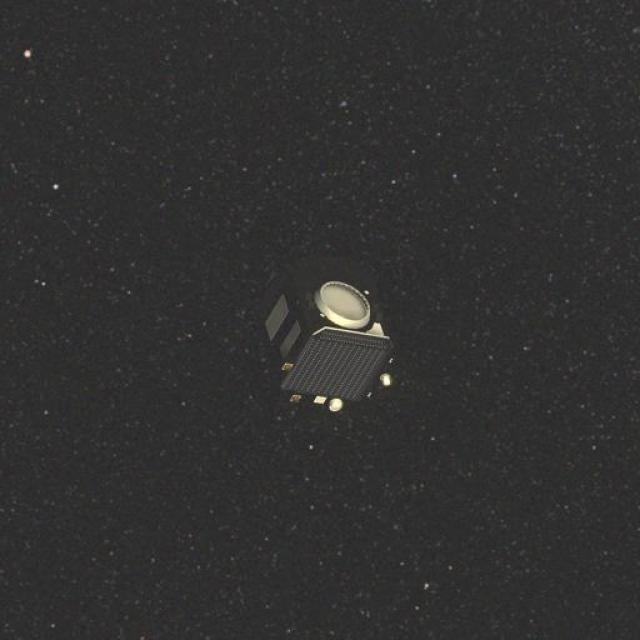proba_3_ocs: (255, 259, 405, 429)
